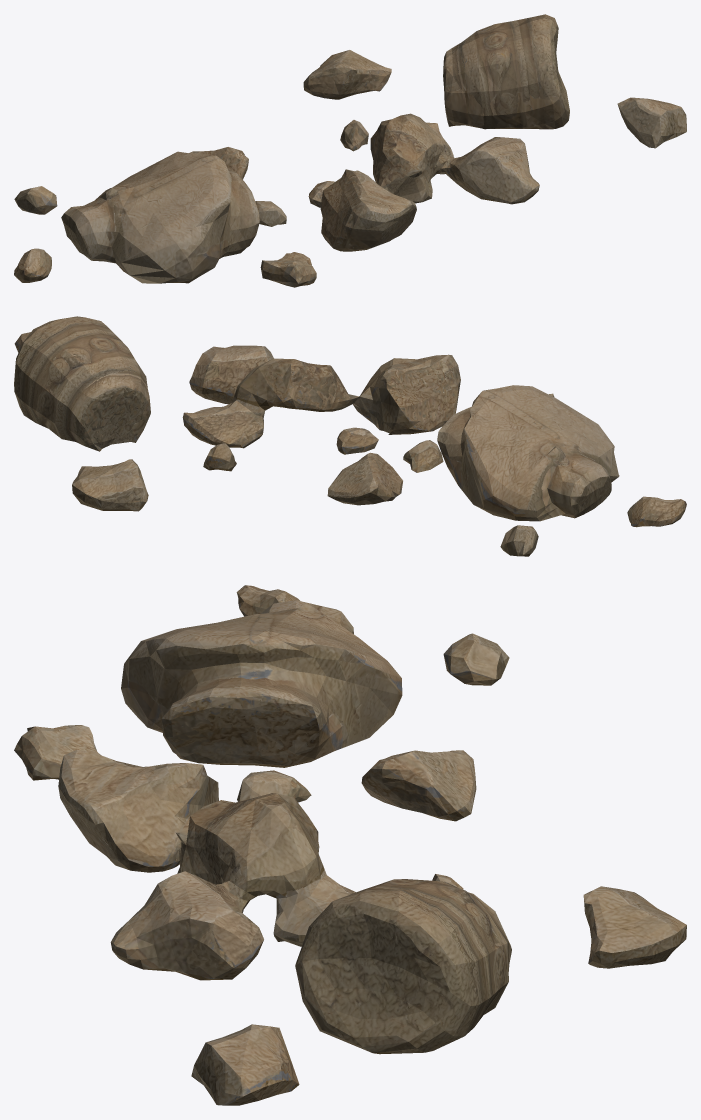
File: Victim.fbx
The picture shows the model from 3 angles, top to bottom: view 1: azimuth 30°, elevation 25°; view 2: azimuth 150°, elevation 25°; view 3: azimuth 270°, elevation 25°; orthographic projection. The views are drawn at different scales.
Visible parts, largest first — view 1: victim_Low; view 2: victim_Low; view 3: victim_Low.
Boxes of the visible parts, box(x1,y1,x2,y2) form: victim_Low: box(14, 14, 686, 287); victim_Low: box(14, 316, 686, 556); victim_Low: box(14, 585, 686, 1105).
Bounding box in the file's own units: 197 × 27.04 × 111.
